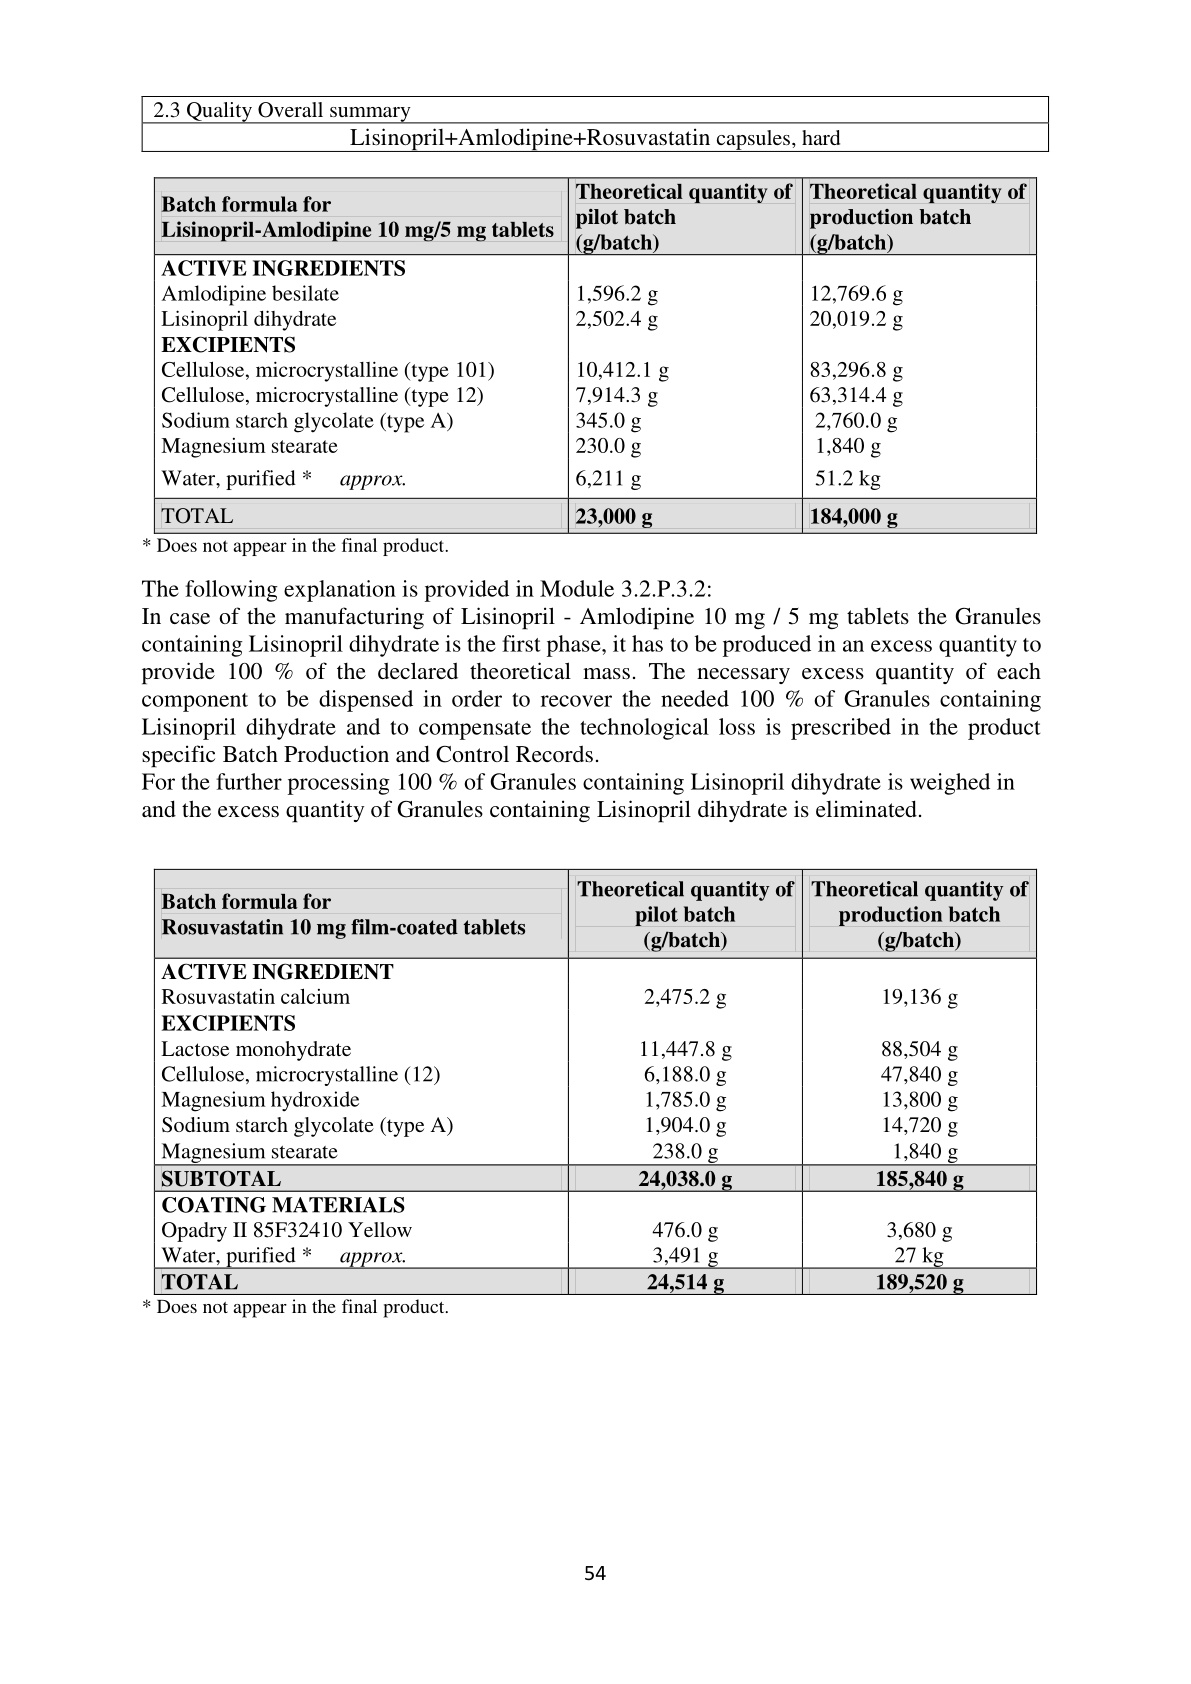full_lined: (153, 868, 1038, 1295), (140, 95, 1049, 153)
merged_cells: (152, 177, 1038, 535)
